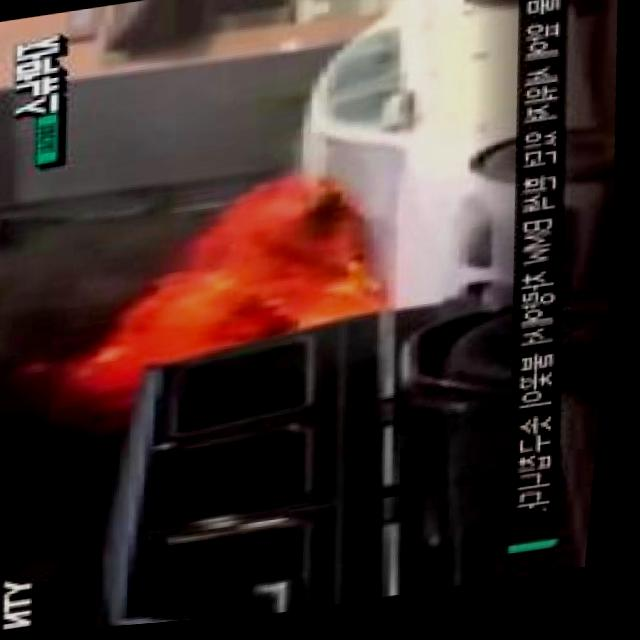helmet: (99, 181, 379, 403)
